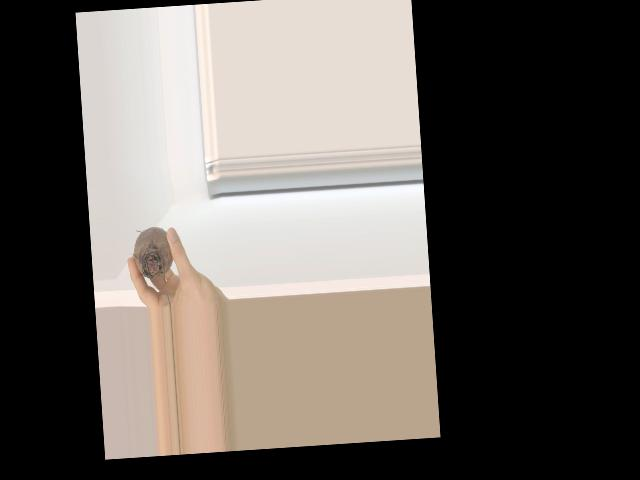beet: (130, 225, 177, 309)
